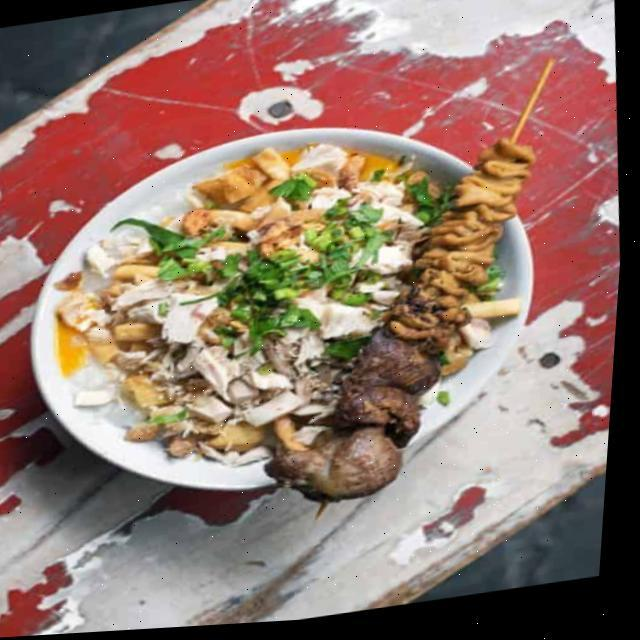bubur ayam: (29, 116, 525, 492)
mangkuk: (1, 91, 562, 532)
